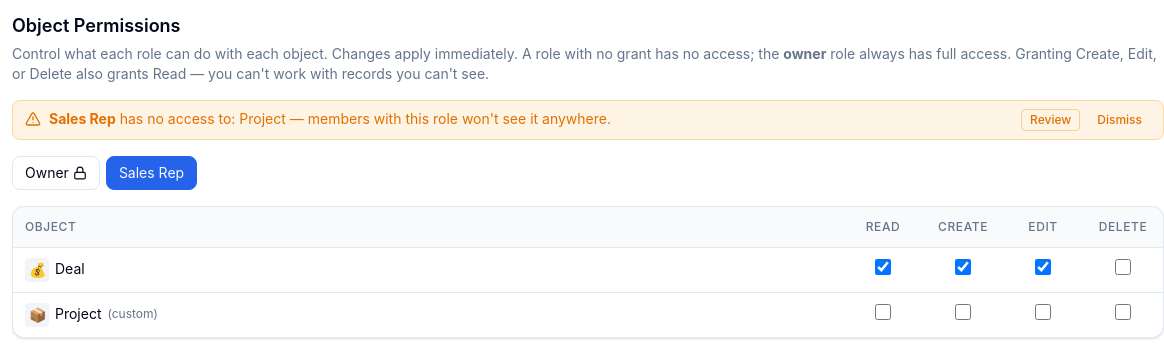
Test: PermissionsManager — role × object grid › re-reads the grid after a save, surfacing a concurrent admin's change
Expected: the checkbox named "Sales Rep Read Project" is shown, [875,304,891,320]
Click the checkbox named "Sales Rep Delete Deal" at (1123, 267), box [1115,259,1131,275]
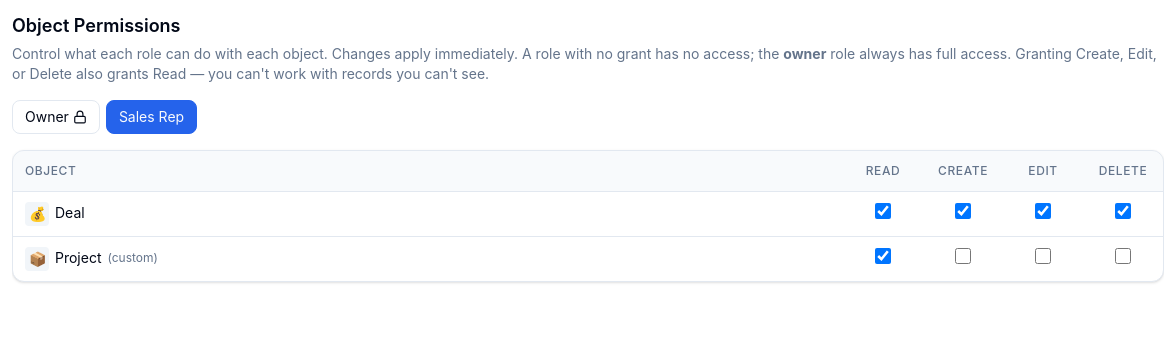
Expected: the checkbox named "Sales Rep Delete Deal" is checked, [1115,203,1131,219]
Expected: the checkbox named "Sales Rep Read Project" is checked, [875,248,891,264]
